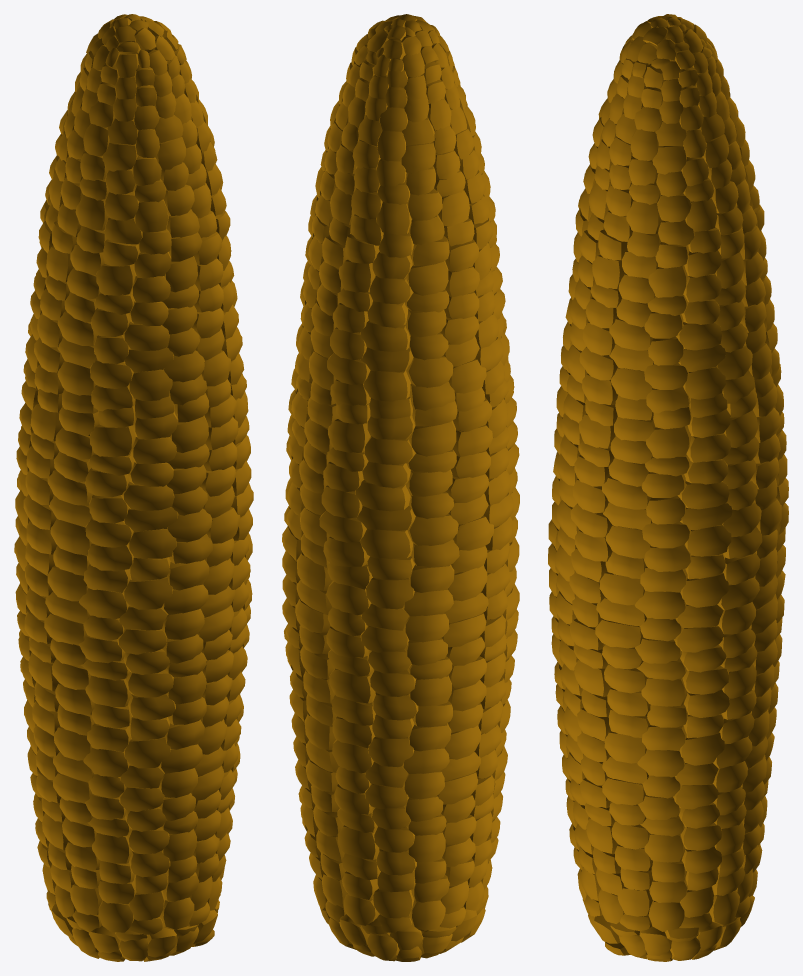
The model's file is corn.glb.
3 views of the same model, side by side, from view 1: azimuth 30°, elevation 25°; view 2: azimuth 150°, elevation 25°; view 3: azimuth 270°, elevation 25° (orthographic).
Visible parts, largest first — view 1: 11548_Ear_Of_Corn_Yellow_V2_l3; view 2: 11548_Ear_Of_Corn_Yellow_V2_l3; view 3: 11548_Ear_Of_Corn_Yellow_V2_l3.
Boxes of the visible parts, left/top/right/bottom form: 11548_Ear_Of_Corn_Yellow_V2_l3: left=14, top=14, right=253, bottom=961; 11548_Ear_Of_Corn_Yellow_V2_l3: left=282, top=14, right=519, bottom=961; 11548_Ear_Of_Corn_Yellow_V2_l3: left=548, top=14, right=788, bottom=961.
Size of the model in its own units: 4.28 by 18.33 by 4.31.
